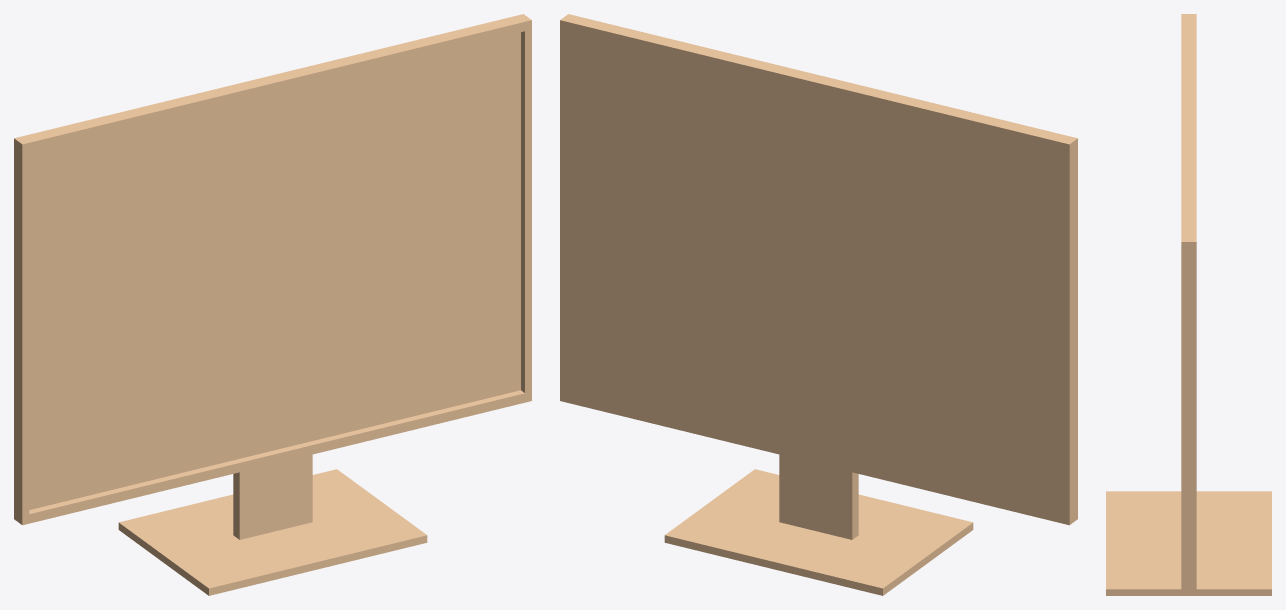
File: monitor screen.obj
The picture shows the model from 3 angles, left to right: view 1: azimuth 30°, elevation 25°; view 2: azimuth 150°, elevation 25°; view 3: azimuth 270°, elevation 25°; orthographic projection. The views are drawn at different scales.
Parts seen in each view (by area): view 1: pCube1, pCube2; view 2: pCube1, pCube2; view 3: pCube2, pCube1.
Part boxes in pixels (box(x1,y1,x2,y2)): pCube1: box(14, 14, 531, 525); pCube2: box(118, 454, 427, 595); pCube1: box(560, 14, 1077, 525); pCube2: box(664, 454, 973, 595); pCube2: box(1106, 491, 1271, 595); pCube1: box(1181, 14, 1196, 591).
Size of the model in its own units: 7 by 6 by 2.15.
